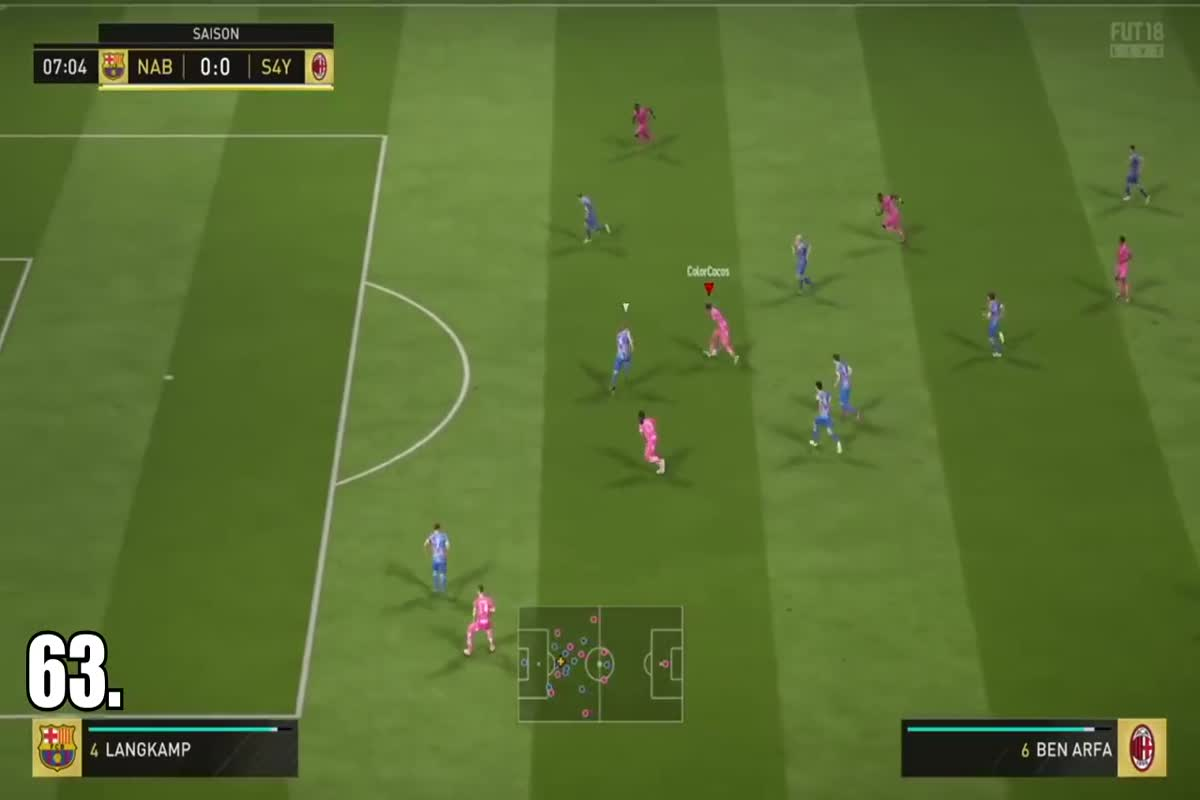ball: (695, 340, 717, 362)
